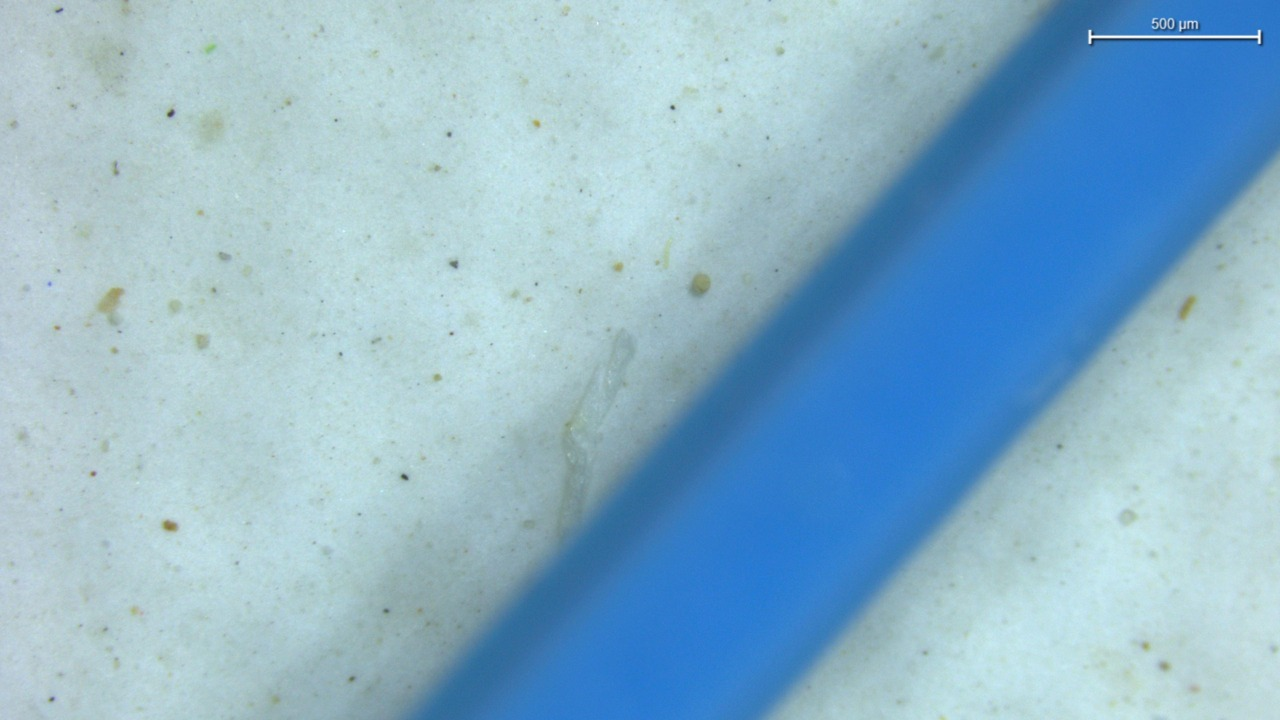microplastic_fragment: (560, 329, 635, 534)
